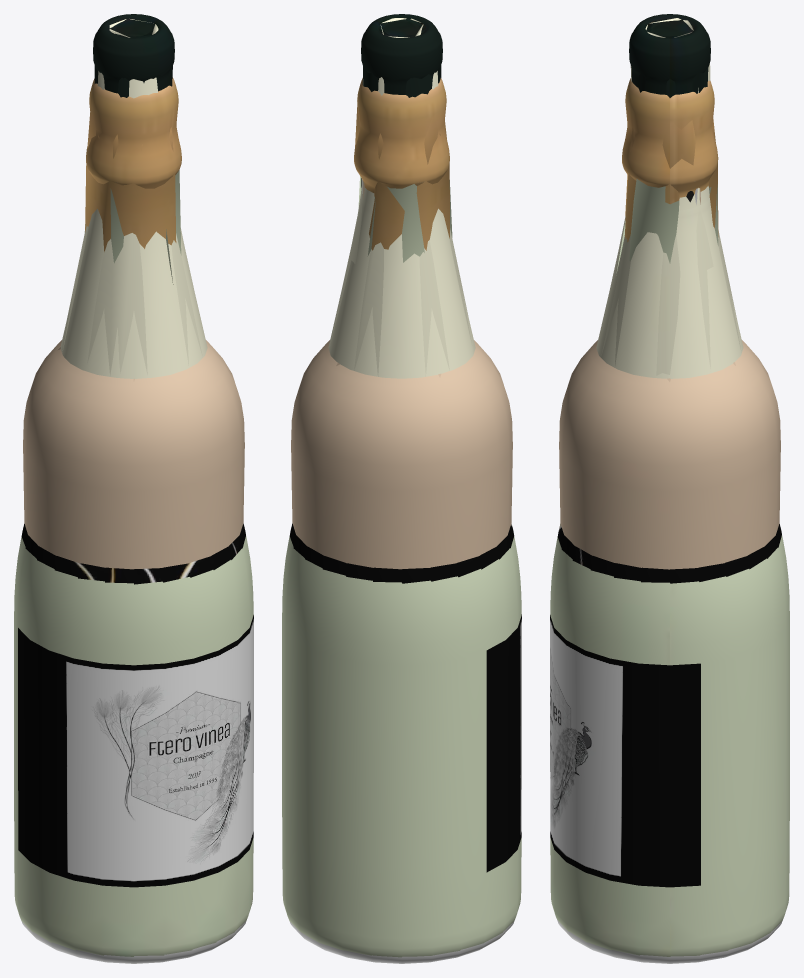
Rendered from wine_bottles_01.glb.
3 renders of one model, left to right at view 1: azimuth 30°, elevation 25°; view 2: azimuth 150°, elevation 25°; view 3: azimuth 270°, elevation 25°, orthographic.
Parts seen in each view (by area): view 1: wine_bottles_01_champagne, wine_bottles_01_bordeaux, wine_bottles_01_alsace, wine_bottles_01_alsace_lo, wine_bottles_01_champagne_lo, wine_bottles_01_burgundy; view 2: wine_bottles_01_champagne, wine_bottles_01_bordeaux, wine_bottles_01_alsace, wine_bottles_01_champagne_lo, wine_bottles_01_alsace_lo, wine_bottles_01_burgundy; view 3: wine_bottles_01_champagne, wine_bottles_01_bordeaux, wine_bottles_01_alsace, wine_bottles_01_alsace_lo, wine_bottles_01_champagne_lo, wine_bottles_01_burgundy.
Boxes of the visible parts, box(x1,y1,x2,y2) form: wine_bottles_01_champagne: box(14, 77, 253, 956); wine_bottles_01_bordeaux: box(23, 340, 244, 569); wine_bottles_01_alsace: box(60, 14, 207, 378); wine_bottles_01_alsace_lo: box(62, 19, 202, 375); wine_bottles_01_champagne_lo: box(18, 106, 193, 880); wine_bottles_01_burgundy: box(21, 523, 246, 963); wine_bottles_01_champagne: box(282, 78, 521, 963); wine_bottles_01_bordeaux: box(291, 340, 512, 569); wine_bottles_01_alsace: box(328, 14, 475, 378); wine_bottles_01_champagne_lo: box(343, 105, 505, 872); wine_bottles_01_alsace_lo: box(330, 18, 471, 376); wine_bottles_01_burgundy: box(289, 523, 514, 963); wine_bottles_01_champagne: box(550, 78, 789, 956); wine_bottles_01_bordeaux: box(559, 340, 780, 569); wine_bottles_01_alsace: box(596, 14, 743, 378); wine_bottles_01_alsace_lo: box(601, 18, 741, 375); wine_bottles_01_champagne_lo: box(550, 118, 718, 880); wine_bottles_01_burgundy: box(557, 523, 782, 963).
Bounding box in the file's own units: 0.0806 × 0.3314 × 0.0805.
9 materials, 6 textured.
